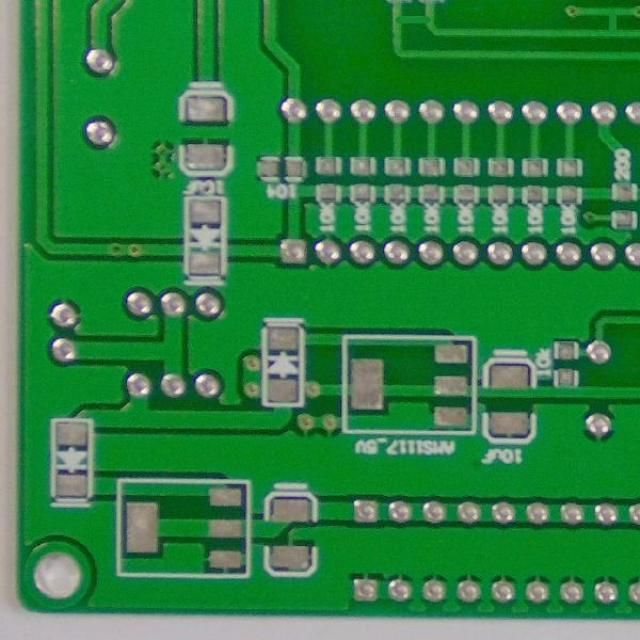short: (380, 7, 451, 34), (596, 7, 623, 38)
